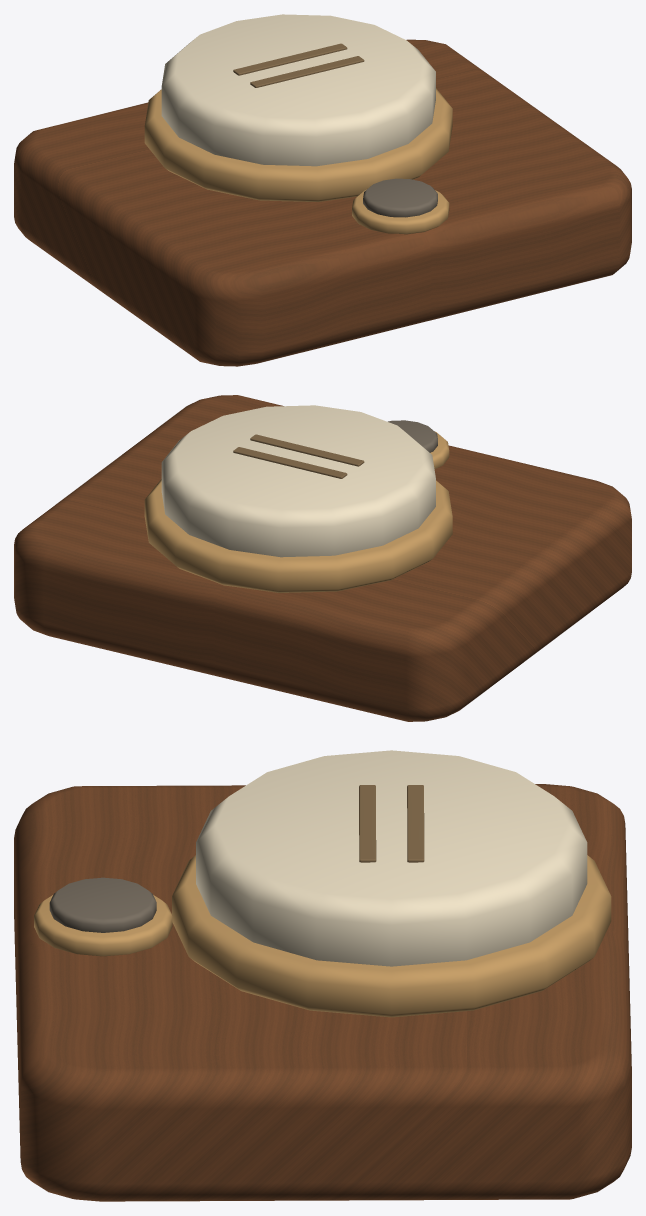
Rendered from wind_control_note2.glb.
The picture shows the model from 3 angles, top to bottom: view 1: azimuth 30°, elevation 25°; view 2: azimuth 150°, elevation 25°; view 3: azimuth 270°, elevation 25°; orthographic projection. The views are drawn at different scales.
Parts seen in each view (by area): view 1: Oak, Ivory_Cap, Brass, Lens, Engraving_Cap; view 2: Oak, Ivory_Cap, Brass, Engraving_Cap, Lens; view 3: Oak, Ivory_Cap, Brass, Lens, Engraving_Cap.
Part boxes in pixels (box(x1,y1,x2,y2)): Oak: box(14, 39, 631, 366); Ivory_Cap: box(161, 14, 435, 166); Brass: box(144, 88, 452, 234); Lens: box(363, 178, 437, 217); Engraving_Cap: box(233, 43, 364, 87); Oak: box(14, 395, 631, 721); Ivory_Cap: box(161, 405, 435, 557); Brass: box(144, 431, 452, 592); Engraving_Cap: box(233, 434, 364, 478); Lens: box(388, 420, 437, 452); Oak: box(14, 784, 631, 1201); Ivory_Cap: box(196, 750, 587, 966); Brass: box(34, 855, 611, 1017); Lens: box(49, 877, 156, 932); Engraving_Cap: box(359, 785, 424, 862).
Bounding box in the file's own units: 0.106 × 0.0379 × 0.09.
Materials: 5 (1 with a texture image).
